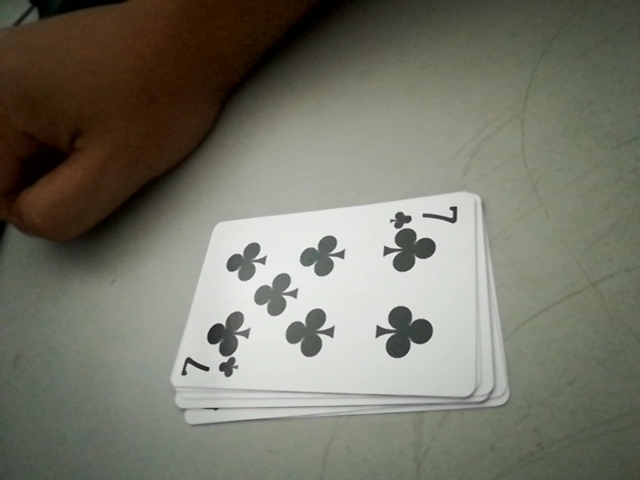mh 7: (177, 351, 242, 389), (389, 200, 464, 230)
